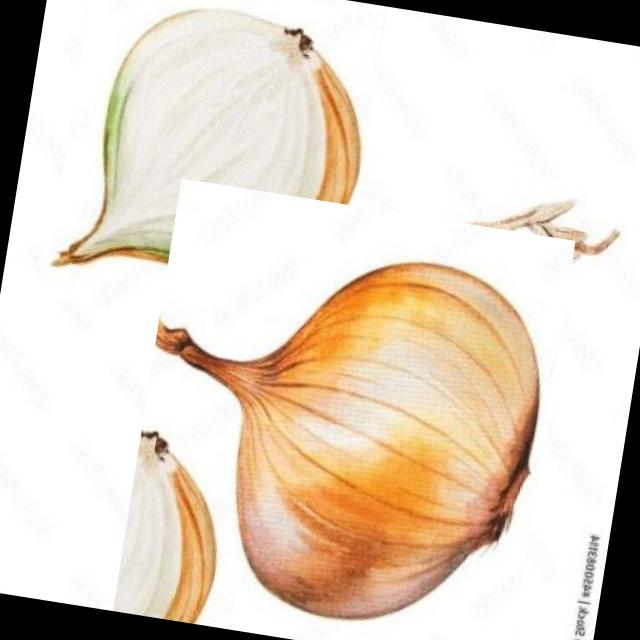Onion: (102, 188, 585, 640), (35, 0, 395, 336)
